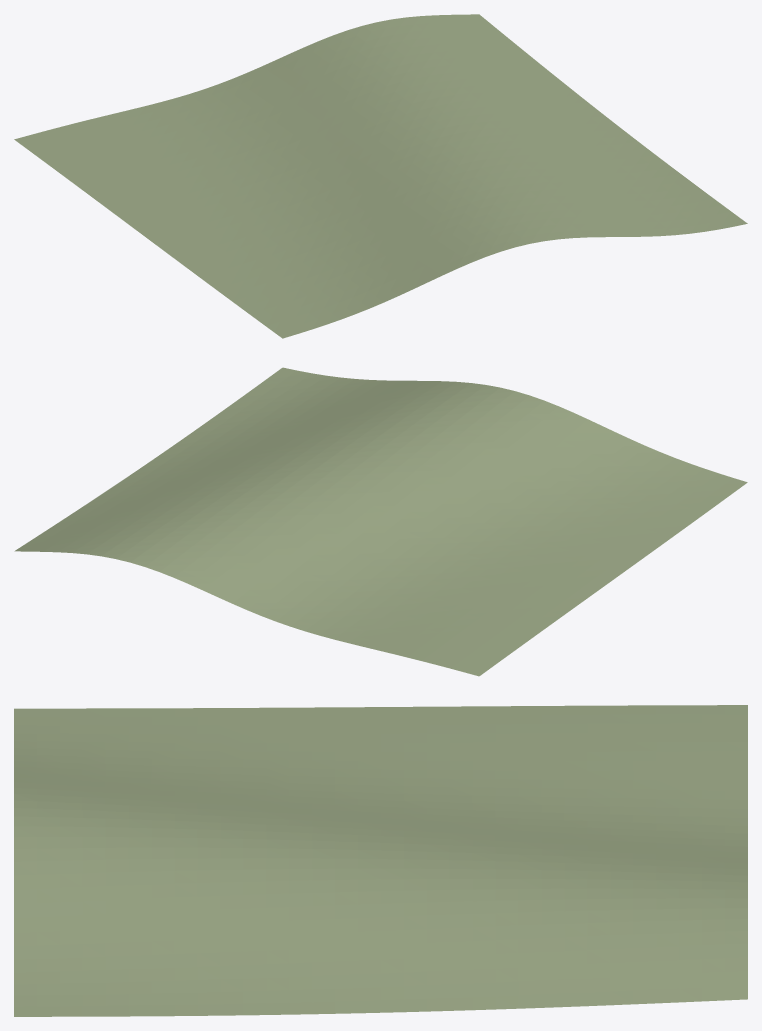
Rendered from desert-3-5.glb.
3 renders of one model, top to bottom at view 1: azimuth 30°, elevation 25°; view 2: azimuth 150°, elevation 25°; view 3: azimuth 270°, elevation 25°, orthographic. The views are drawn at different scales.
Parts seen in each view (by area): view 1: desert-3-5; view 2: desert-3-5; view 3: desert-3-5.
Boxes of the visible parts, x1,y1,x2,y2 form: desert-3-5: (14, 14, 747, 338); desert-3-5: (14, 367, 747, 676); desert-3-5: (14, 705, 747, 1016).
Bounding box in the file's own units: 512 × 36.24 × 512.
